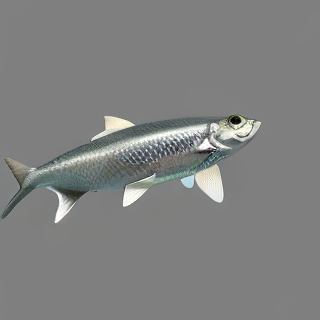Pecific herring: (1, 109, 266, 225)
